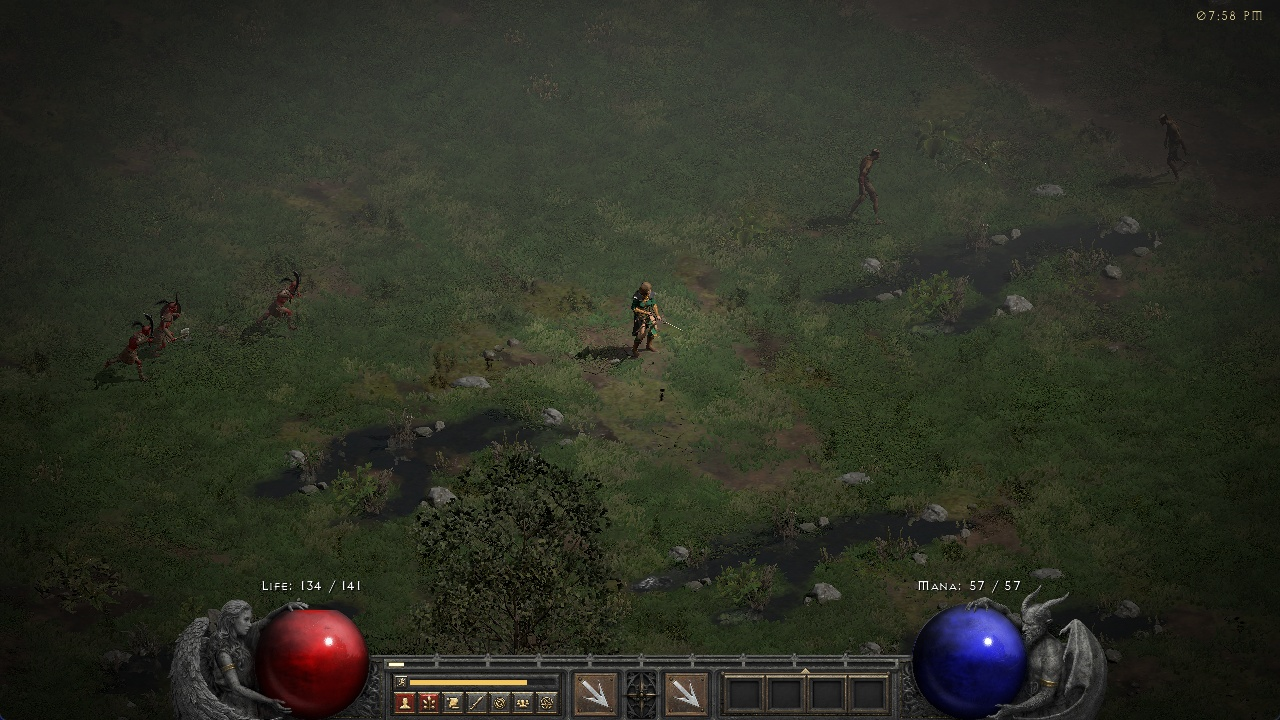fallen: (267, 268, 306, 333), (152, 295, 195, 352), (111, 320, 149, 378)
